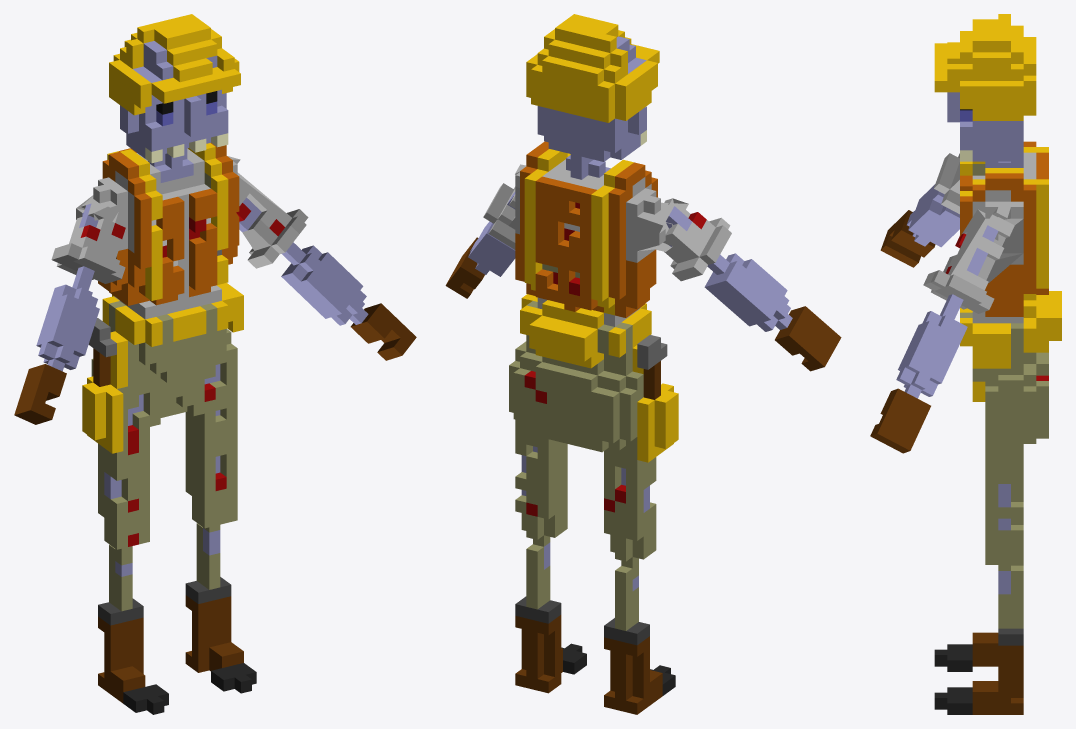
File: zombie_worker.obj
3 renders of one model, left to right at view 1: azimuth 30°, elevation 25°; view 2: azimuth 150°, elevation 25°; view 3: azimuth 270°, elevation 25°, orthographic.
Bounding box in the file's own units: 3.47 × 5.7 × 1.51.
1 material, 1 textured.
